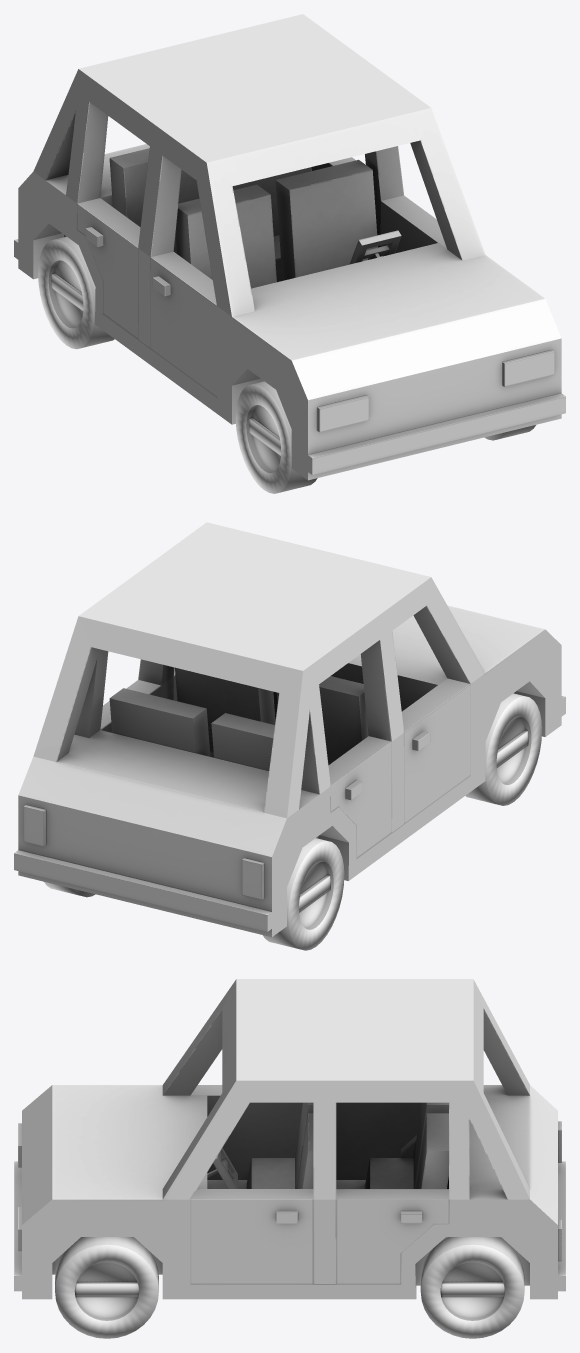
The model's file is car2.glb.
3 views of the same model, one above another, from view 1: azimuth 30°, elevation 25°; view 2: azimuth 150°, elevation 25°; view 3: azimuth 270°, elevation 25° (orthographic). The views are drawn at different scales.
Visible parts, largest first — view 1: body, door_2, door_4, wheel_br, wheel_fr, door_1, Steering wheel; view 2: body, door_2, door_4, wheel_br, wheel_fr, door_3; view 3: body, door_1, wheel_bl, wheel_fl, door_3, door_4, door_2, Steering wheel.
Part boxes in pixels (box(x1,y1,x2,y2)): body: box(14, 14, 565, 480); door_2: box(150, 251, 216, 396); door_4: box(77, 198, 140, 339); wheel_br: box(38, 236, 114, 349); wheel_fr: box(235, 381, 317, 493); door_1: box(381, 195, 447, 255); Steering wheel: box(349, 230, 401, 264); body: box(14, 522, 565, 937); door_2: box(402, 678, 470, 823); door_4: box(328, 736, 391, 857); wheel_br: box(263, 838, 344, 950); wheel_fr: box(465, 693, 541, 805); door_3: box(100, 680, 161, 732); body: box(14, 979, 565, 1299); door_1: box(190, 1189, 313, 1283); wheel_bl: box(420, 1237, 524, 1338); wheel_fl: box(55, 1237, 158, 1338); door_3: box(336, 1189, 448, 1283); door_4: box(336, 1102, 421, 1179); door_2: box(190, 1085, 302, 1179); Steering wheel: box(207, 1148, 237, 1188).
Size of the model in its own units: 1.28 by 1.26 by 2.49.
Materials: 2 (2 with a texture image).
